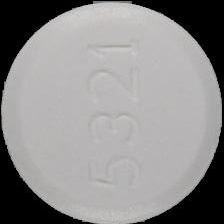0591-5321: (0, 0, 224, 224)
